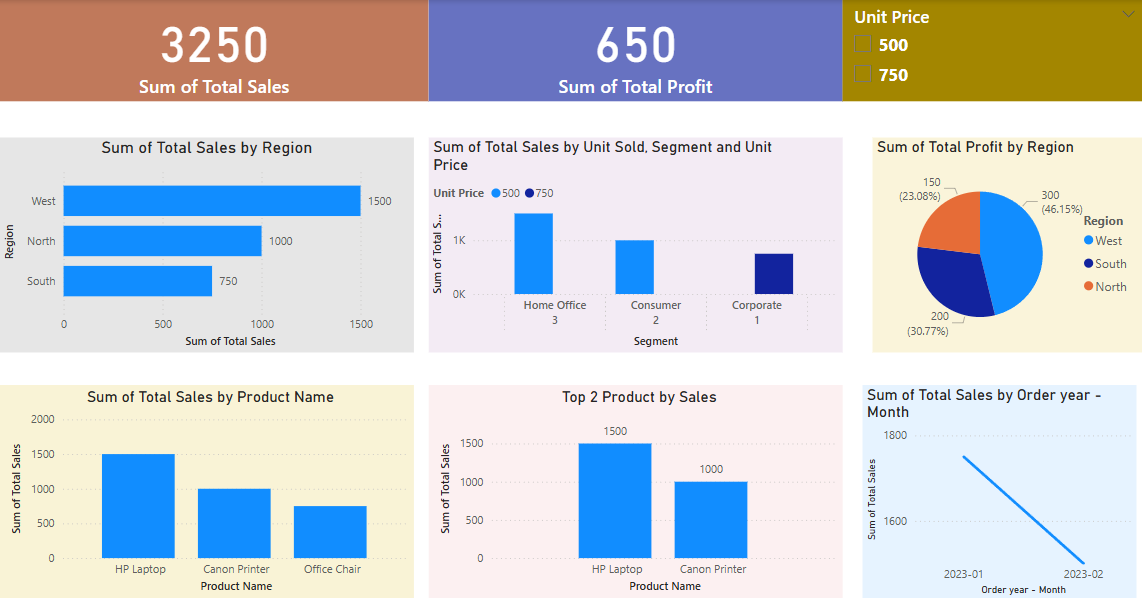

What the dashboard file says about the page in this screenshot:
{"tool":"powerbi","page":{"name":"Page 1","canvas":[1280,720],"ordinal":0},"visuals":[{"type":"card","fields":{"Values":["Sum(retail_sales_analysis.TotalSales)"]},"box":[0,0,470.7,111.1],"z":0},{"type":"card","fields":{"Values":["Sum(retail_sales_analysis.Profit)"]},"box":[470.7,0,454.2,111.1],"z":1000},{"type":"barChart","fields":{"Category":["retail_sales_analysis.Region"],"Y":["Sum(retail_sales_analysis.Total Sales)"]},"box":[0,150.9,454.2,236],"z":2000},{"type":"columnChart","fields":{"Y":["Sum(retail_sales_analysis.Total Sales)"],"Category":["retail_sales_analysis.Product Name"]},"box":[0,422.6,454.2,236],"z":3000},{"type":"columnChart","title":"Top 2 Product by Sales","fields":{"Y":["Sum(retail_sales_analysis.Total Sales)"],"Category":["retail_sales_analysis.Product Name"]},"box":[470.7,422.6,454.2,236],"z":4000},{"type":"lineChart","fields":{"Y":["Sum(retail_sales_analysis.Total Sales)"],"Category":["retail_sales_analysis.Order year - Month"]},"box":[946.8,422.6,300.5,236],"z":5000},{"type":"clusteredColumnChart","fields":{"Category":["retail_sales_analysis.Unit Sold","retail_sales_analysis.Segment"],"Y":["Sum(retail_sales_analysis.Total Sales)"],"Series":["retail_sales_analysis.Unit Price"]},"box":[470.7,150.9,454.2,236],"z":6000},{"type":"pieChart","fields":{"Category":["retail_sales_analysis.Region"],"Y":["Sum(retail_sales_analysis.Total Profit)"]},"box":[957.8,150.9,300.5,236],"z":7000},{"type":"slicer","fields":{"Values":["retail_sales_analysis.Unit Price"]},"box":[924.9,0,333.4,111.1],"z":8000}]}

Visuals, with their boxes on the page's 1280x720 design canvas (x1, y1, x2, y2). These are canvas units, not pixel positions in the 1142x598 screenshot, which may show the page scaled, cropped or inside an application window:
card - Sum(retail_sales_analysis.TotalSales): {"x1": 0, "y1": 0, "x2": 471, "y2": 111}
card - Sum(retail_sales_analysis.Profit): {"x1": 471, "y1": 0, "x2": 925, "y2": 111}
barChart - retail_sales_analysis.Region x Sum(retail_sales_analysis.Total Sales): {"x1": 0, "y1": 151, "x2": 454, "y2": 387}
columnChart - Sum(retail_sales_analysis.Total Sales) x retail_sales_analysis.Product Name: {"x1": 0, "y1": 423, "x2": 454, "y2": 659}
"Top 2 Product by Sales" columnChart: {"x1": 471, "y1": 423, "x2": 925, "y2": 659}
lineChart - Sum(retail_sales_analysis.Total Sales) x retail_sales_analysis.Order year - Month: {"x1": 947, "y1": 423, "x2": 1247, "y2": 659}
clusteredColumnChart - retail_sales_analysis.Unit Sold x retail_sales_analysis.Segment: {"x1": 471, "y1": 151, "x2": 925, "y2": 387}
pieChart - retail_sales_analysis.Region x Sum(retail_sales_analysis.Total Profit): {"x1": 958, "y1": 151, "x2": 1258, "y2": 387}
slicer - retail_sales_analysis.Unit Price: {"x1": 925, "y1": 0, "x2": 1258, "y2": 111}
